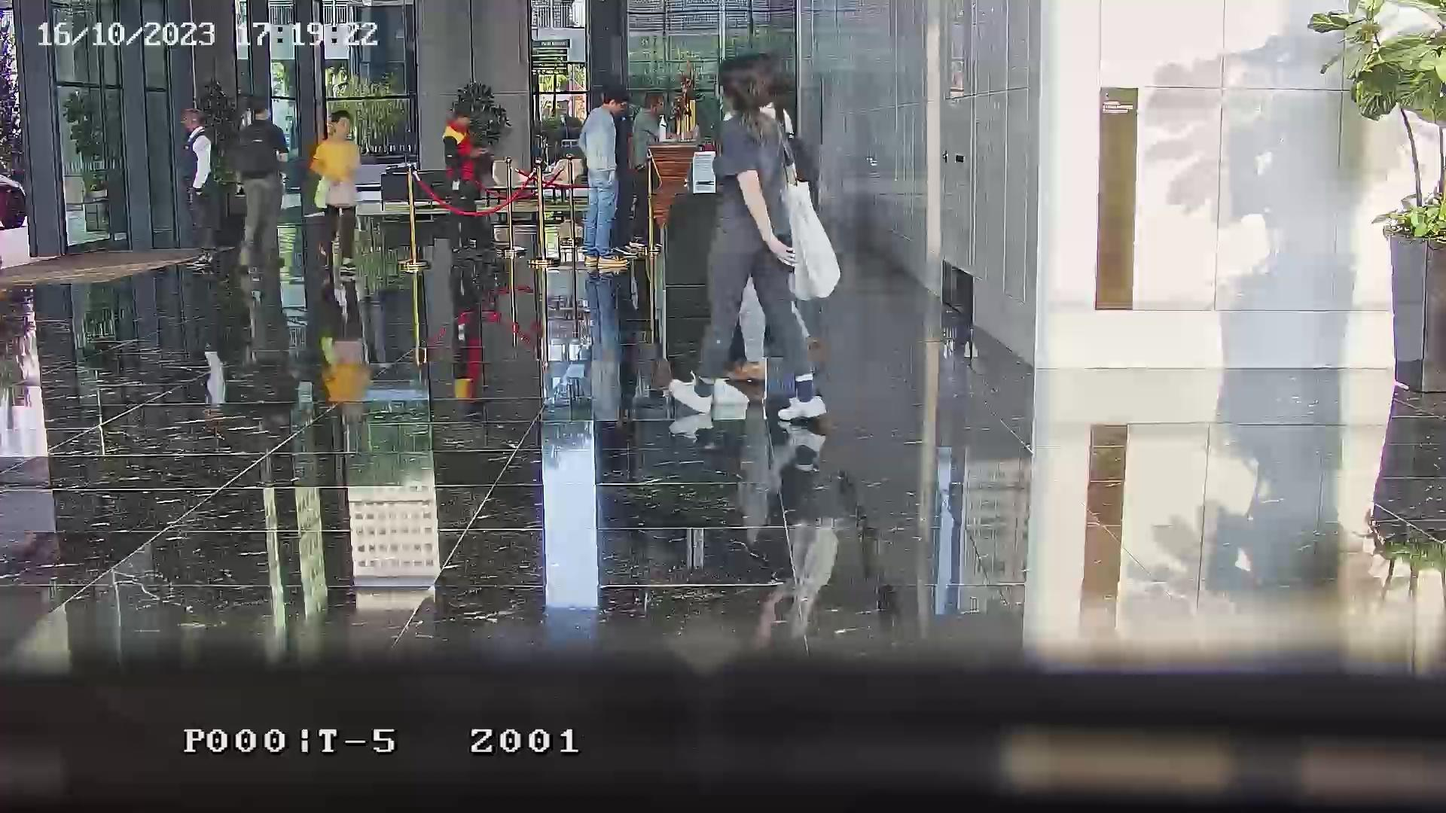person: (696, 47, 831, 423), (229, 101, 289, 273), (578, 86, 631, 271), (308, 110, 361, 276), (442, 102, 487, 260), (626, 90, 668, 248), (175, 106, 212, 249)
